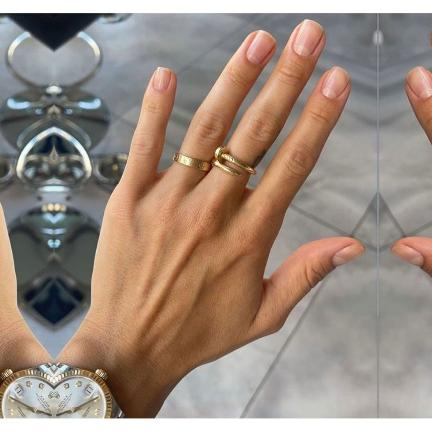Nail: (292, 19, 323, 56), (245, 30, 275, 64), (321, 66, 349, 99), (405, 66, 432, 99), (331, 244, 364, 266), (390, 244, 423, 266), (153, 67, 171, 91), (431, 28, 432, 33)
